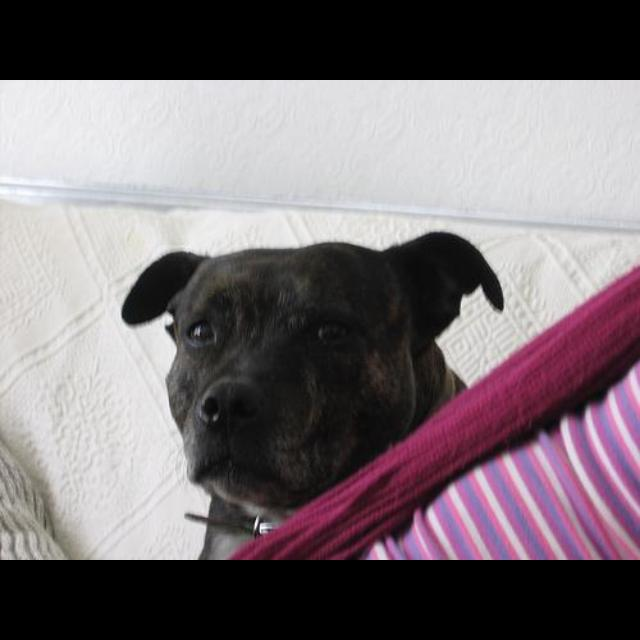amstaff: (121, 230, 506, 560)
